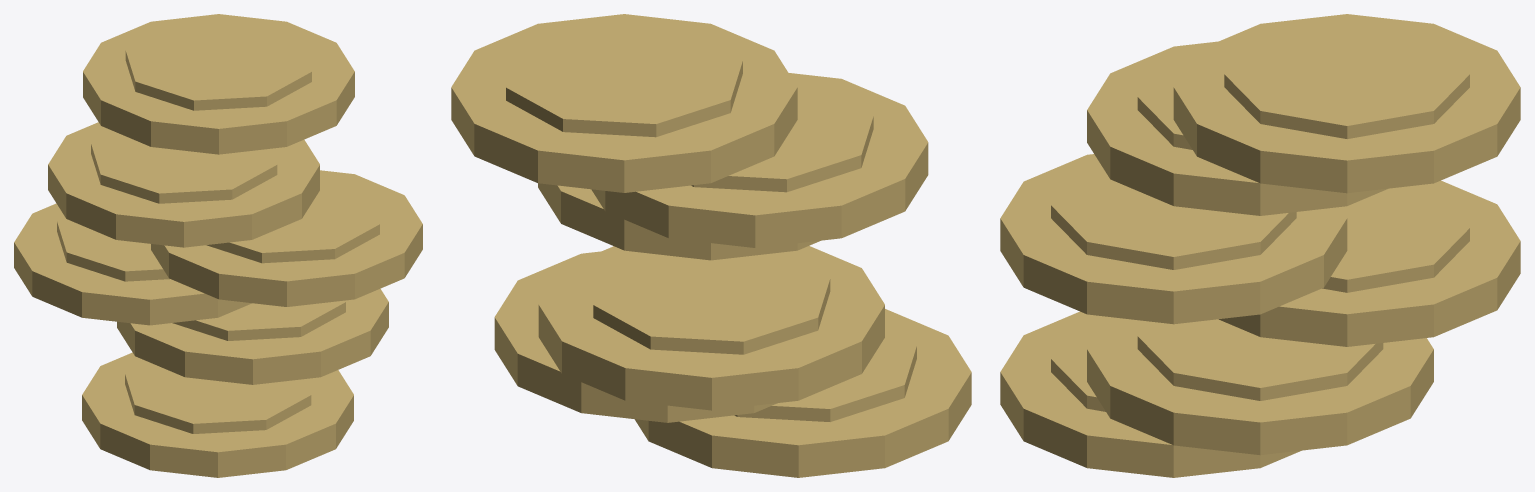
The model's file is item_116_coin_l.glb.
The picture shows the model from 3 angles, left to right: view 1: azimuth 30°, elevation 25°; view 2: azimuth 150°, elevation 25°; view 3: azimuth 270°, elevation 25°; orthographic projection. The views are drawn at different scales.
Parts seen in each view (by area): view 1: item_116_coin_l; view 2: item_116_coin_l; view 3: item_116_coin_l.
Boxes of the visible parts, x1,y1,x2,y2 form: item_116_coin_l: (14,14,422,477); item_116_coin_l: (451,14,971,477); item_116_coin_l: (1000,14,1520,477).
Size of the model in its own units: 0.31 by 0.285 by 0.36.
